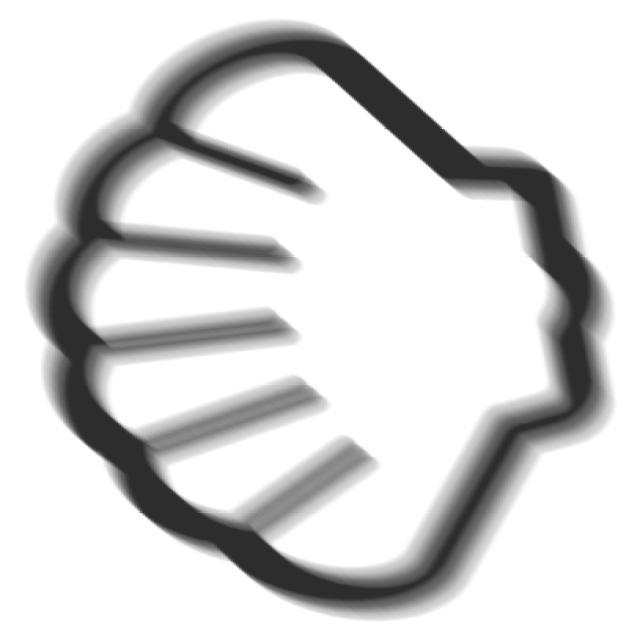shell: (12, 12, 630, 635)
